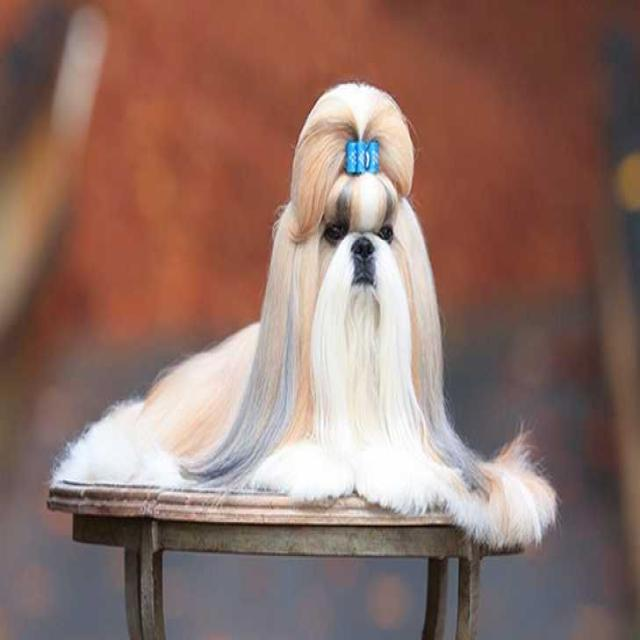dog: (264, 124, 418, 412)
